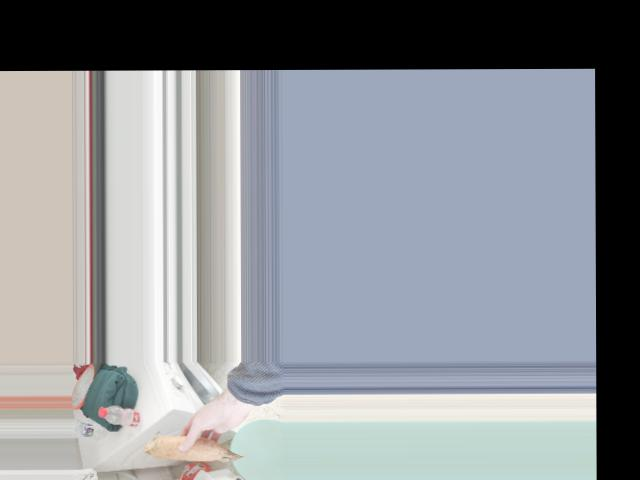sweet_potato: (153, 429, 240, 461)
